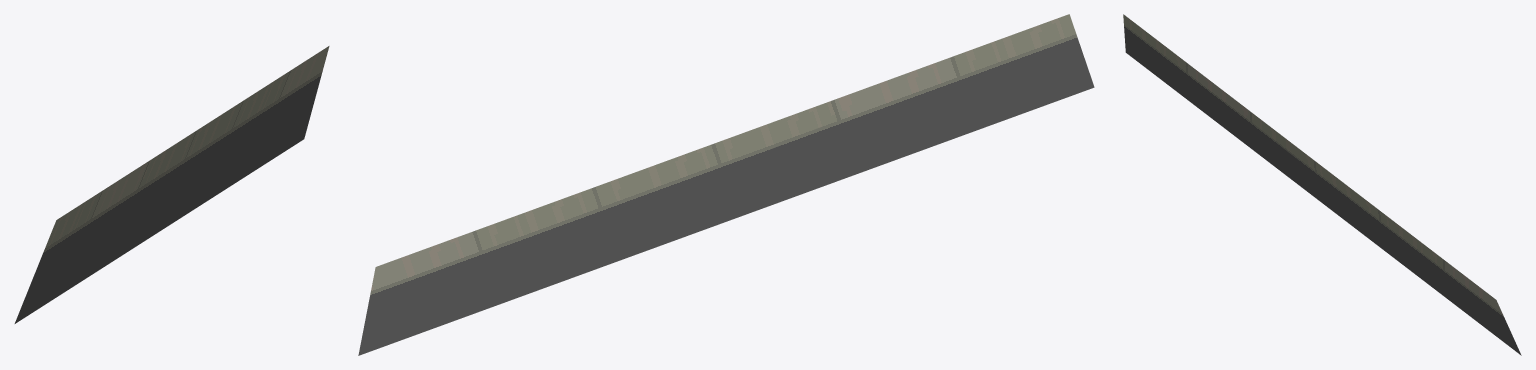
Rendered from kd_stage_135b75_4_94_bounded_portal_piece_7.glb.
3 views of the same model, side by side, from view 1: azimuth 30°, elevation 25°; view 2: azimuth 150°, elevation 25°; view 3: azimuth 270°, elevation 25° (orthographic). The views are drawn at different scales.
Visible parts, largest first — view 1: kd_stage_135b75_4_94_bounded_portal_piece_7; view 2: kd_stage_135b75_4_94_bounded_portal_piece_7; view 3: kd_stage_135b75_4_94_bounded_portal_piece_7.
Part boxes in pixels (x1,y1,x2,y2): kd_stage_135b75_4_94_bounded_portal_piece_7: (14,46,329,323); kd_stage_135b75_4_94_bounded_portal_piece_7: (358,14,1094,355); kd_stage_135b75_4_94_bounded_portal_piece_7: (1123,14,1521,355).
Bounding box in the file's own units: 1 × 0.5153 × 1.01.
Materials: 1 (1 with a texture image).
